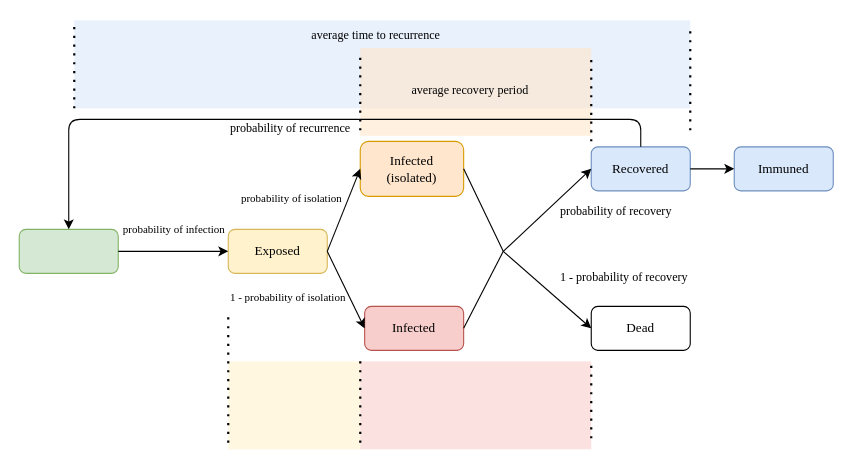
Image size: 853x470. Some labels were removed from this diagram. The shapes that lost their labels are listed below. From the top down, each one's centre as x and y in pixels, then its label:
(68,250): Susceptible
(294,405): average incubation period
(475,405): average time to death
